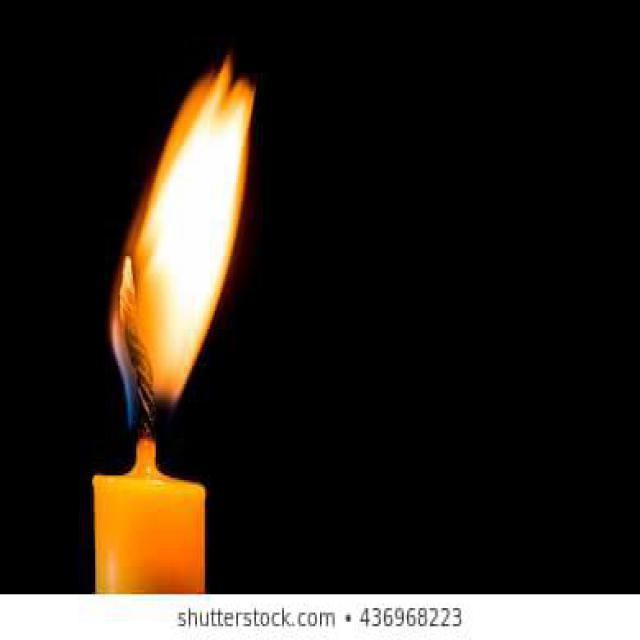Fire: (109, 57, 254, 439)
